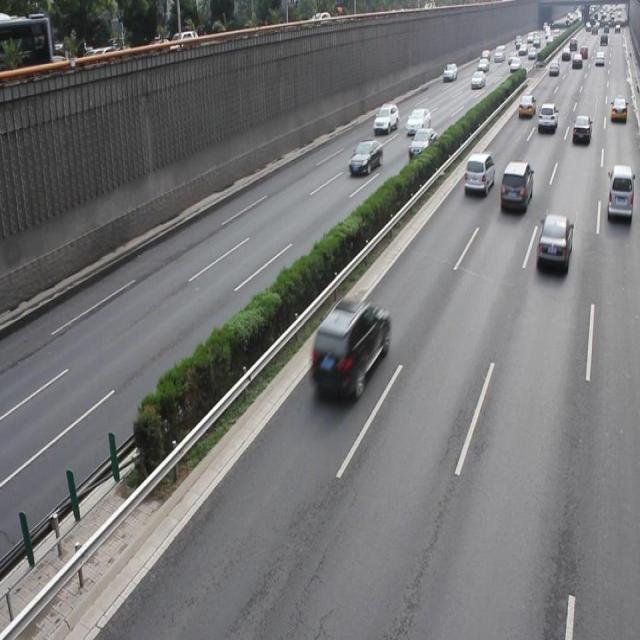car: (308, 298, 388, 399), (535, 213, 570, 274), (498, 161, 532, 214), (462, 150, 493, 196), (347, 138, 381, 176), (408, 126, 436, 161)
truck: (606, 165, 640, 224)
